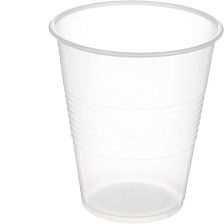glass: (43, 0, 224, 224)
